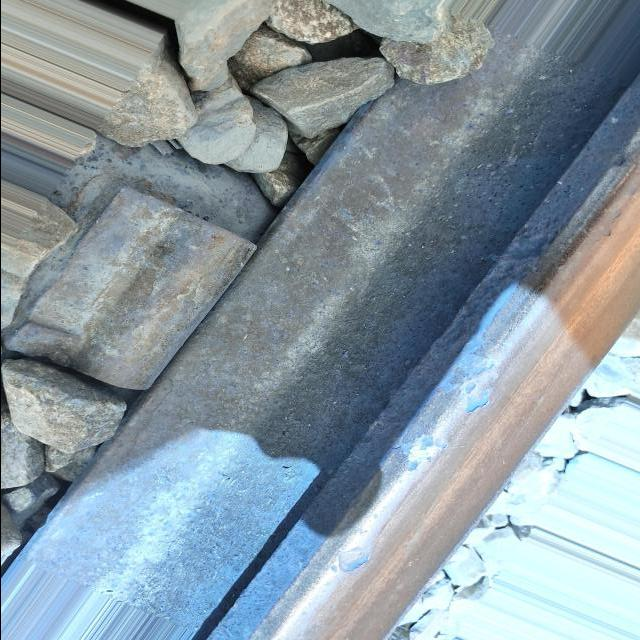squats_high: (401, 434, 447, 474), (334, 547, 372, 573), (465, 388, 491, 414), (468, 352, 494, 378), (461, 381, 475, 396), (328, 566, 338, 574)
